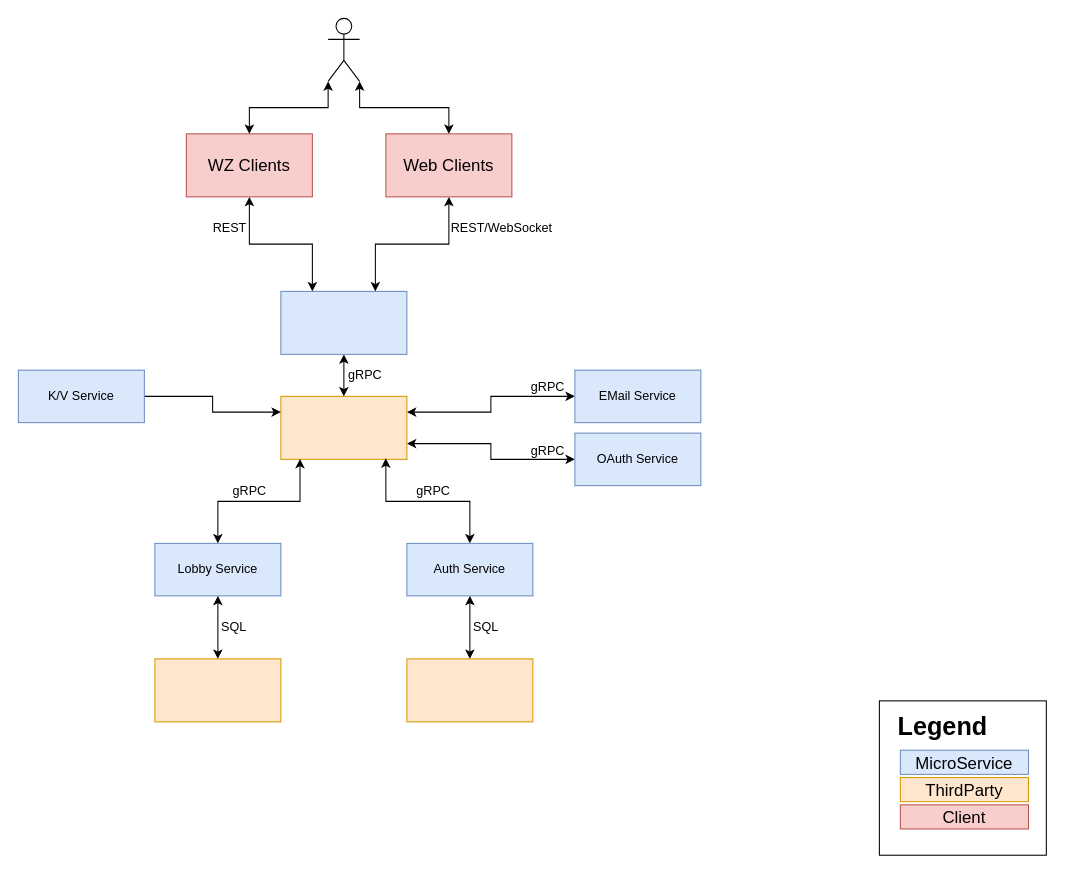
This 1065x874 diagram has some shape labels left out. The box of each missing label's shape, as (x1, y1, x2, y2) in pixels:
HTTP Proxy: (280, 290, 407, 354)
NATS Broker: (280, 395, 407, 459)
SQL DB Auth: (406, 658, 533, 722)
SQL DB Lobby: (154, 658, 281, 722)
